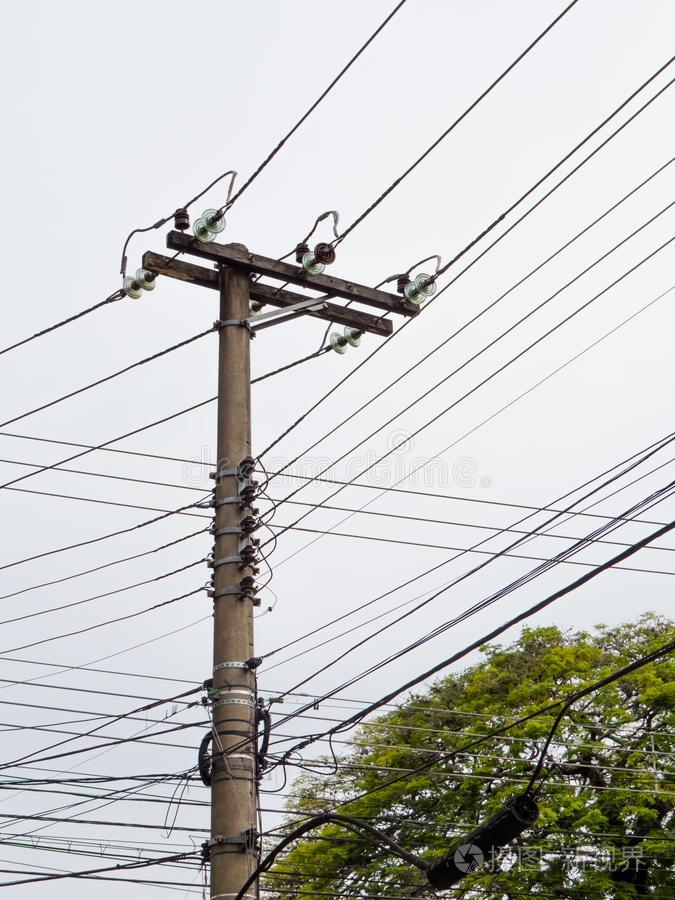insulator: (297, 240, 347, 272), (189, 207, 224, 249), (404, 271, 440, 308), (119, 268, 156, 303), (326, 327, 362, 355)
